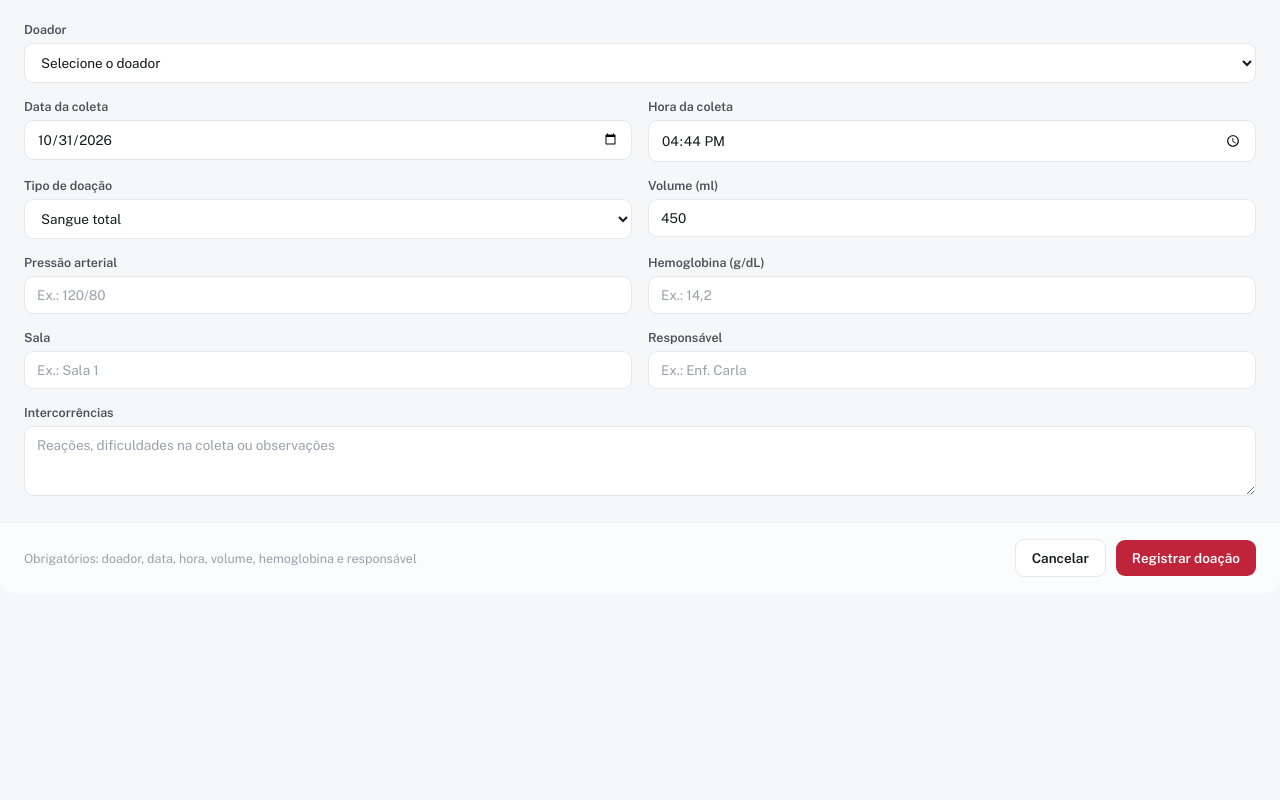
Test: DoacaoForm › não envia e mostra os avisos quando faltam campos obrigatórios
Step 1. Click the button "Registrar doação" → coordinates (1186, 558), box [1116,540,1256,576]
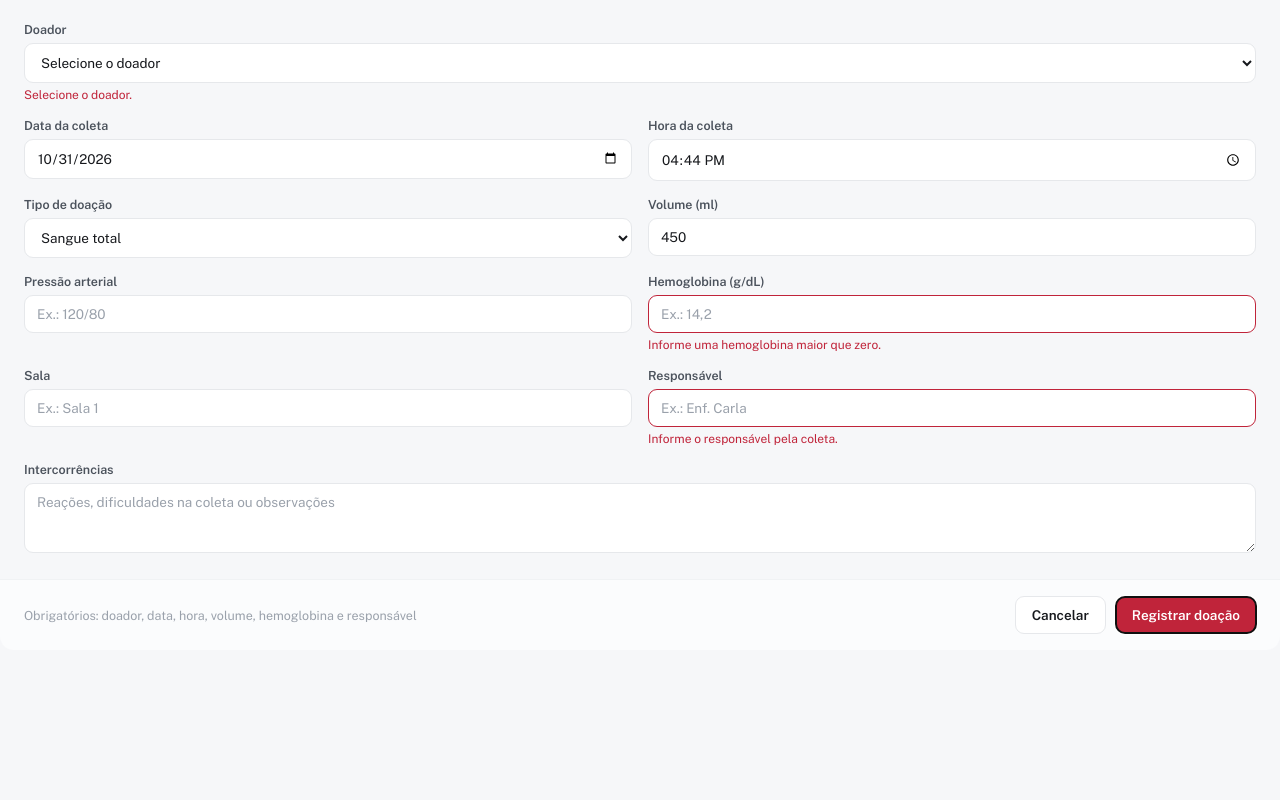
Now the text "Selecione o doador." is shown, box [24,88,132,102]
Now the text "Informe uma hemoglobina maior que zero." is shown, box [648,338,881,352]
Now the text "Informe o responsável pela coleta." is shown, box [648,432,838,446]
